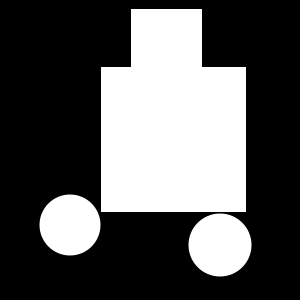circle: (101, 67, 246, 212), (131, 9, 202, 80)
rectangle: (188, 214, 251, 276), (39, 194, 100, 256), (174, 93, 212, 131)
